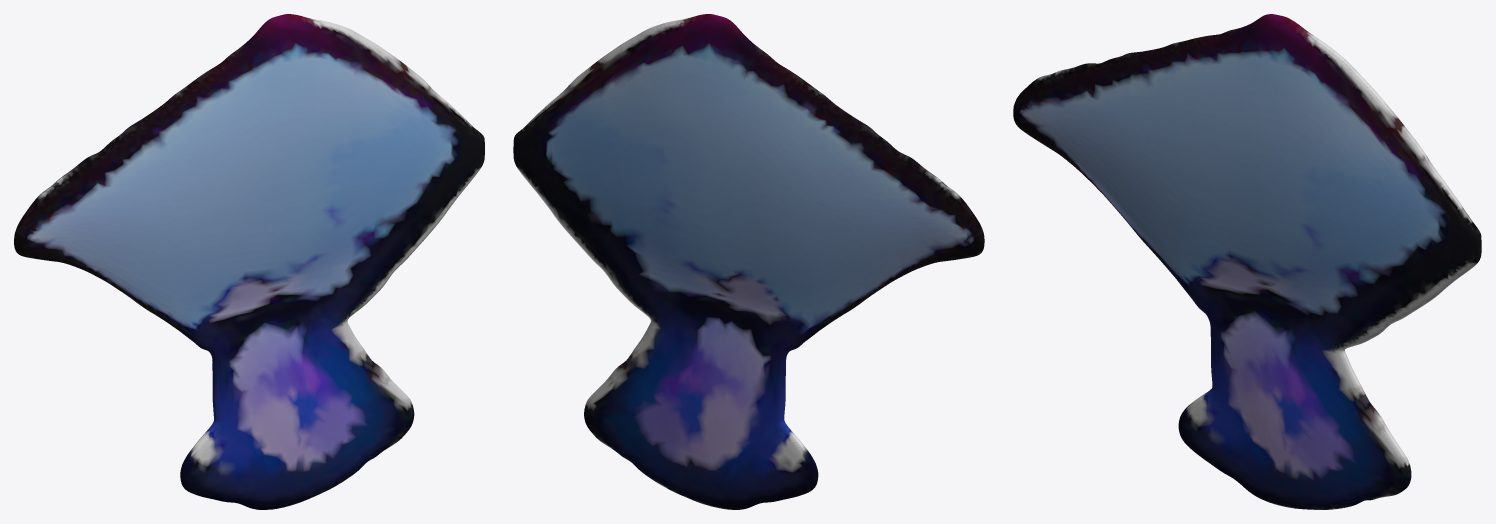
The model's file is mushroom_3.glb.
3 renders of one model, left to right at view 1: azimuth 30°, elevation 25°; view 2: azimuth 150°, elevation 25°; view 3: azimuth 330°, elevation 25°, orthographic.
Visible parts, largest first — view 1: geometry_0; view 2: geometry_0; view 3: geometry_0.
Part boxes in pixels (x1,y1,x2,y2): geometry_0: (14,14,484,509); geometry_0: (513,14,984,509); geometry_0: (1013,14,1481,509).
Bounding box in the file's own units: 0.5 × 0.5003 × 0.0419.
